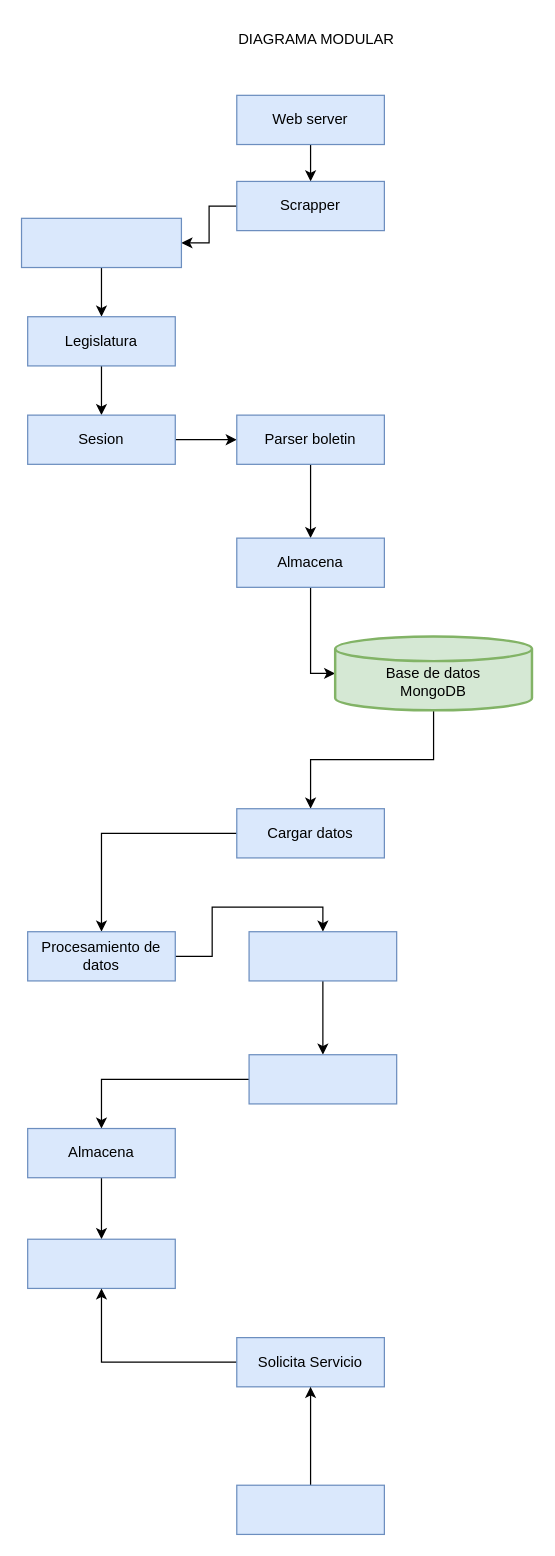
Some shapes in this 555 by 1556 pixel diagram are drawn without their labels. Here are the shapes that lost their labels. From the top down, the centre of each, then its label:
At point (100, 242): "Obtiene".
At point (322, 955): "Resultado".
At point (322, 1078): "Json".
At point (100, 1263): "Host de Archivos".
At point (310, 1509): "FrontEnd".
